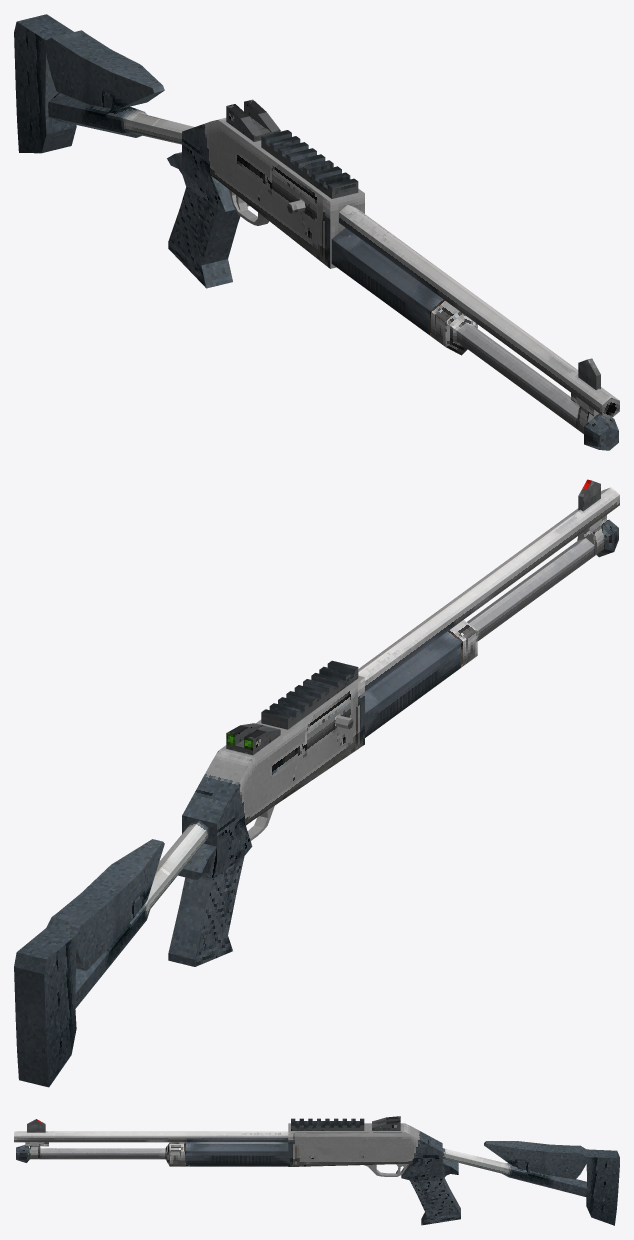
Rendered from PSX_Benelli.glb.
3 renders of one model, top to bottom at view 1: azimuth 30°, elevation 25°; view 2: azimuth 150°, elevation 25°; view 3: azimuth 270°, elevation 25°, orthographic. The views are drawn at different scales.
Parts seen in each view (by area): view 1: Cube.028; view 2: Cube.028; view 3: Cube.028.
Part boxes in pixels (box(x1,y1,x2,y2)): Cube.028: box(14, 14, 619, 450); Cube.028: box(14, 479, 619, 1087); Cube.028: box(14, 1116, 619, 1225).
Size of the model in its own units: 0.0578 by 0.228 by 1.22.
1 material, 1 textured.
